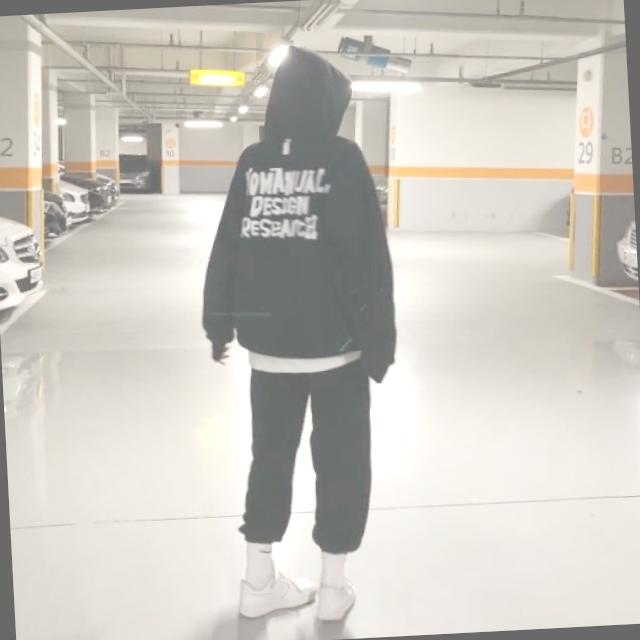hoodies: (188, 42, 399, 392)
trainingpants: (228, 352, 382, 556)
